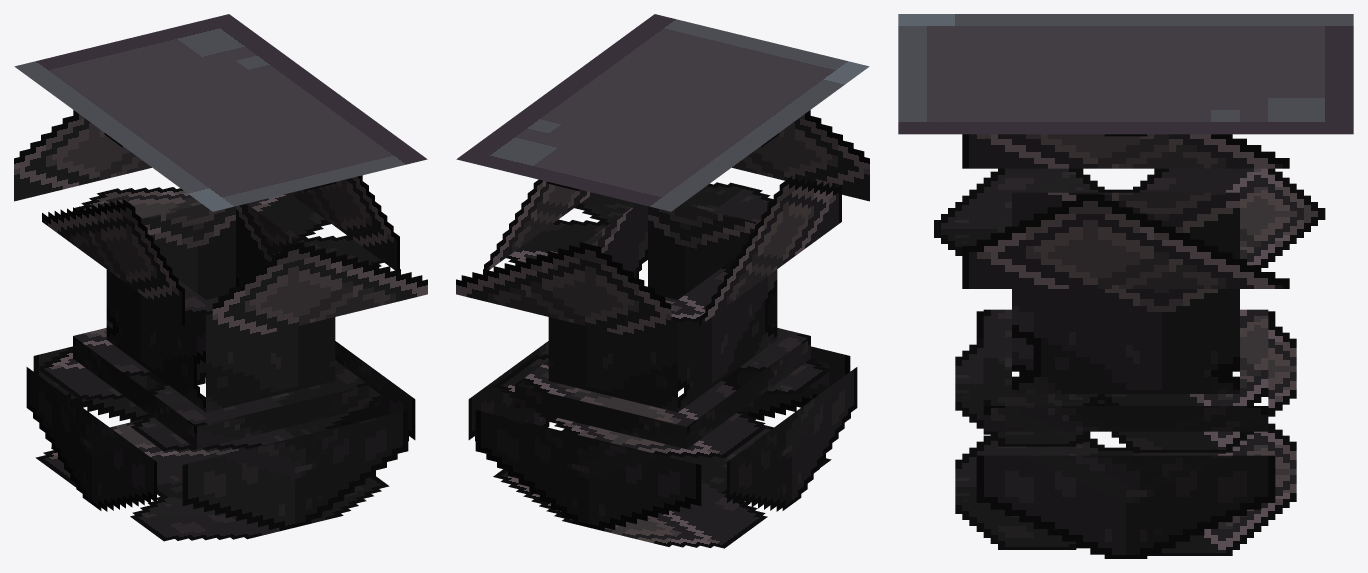
Rendered from anvil.fbx.
The picture shows the model from 3 angles, left to right: view 1: azimuth 30°, elevation 25°; view 2: azimuth 150°, elevation 25°; view 3: azimuth 270°, elevation 25°; orthographic projection. The views are drawn at different scales.
Parts seen in each view (by area): view 1: anvil; view 2: anvil; view 3: anvil.
Boxes of the visible parts, <box> form: anvil: <box>14,14,427,541</box>; anvil: <box>456,14,869,548</box>; anvil: <box>898,14,1353,558</box>.
Size of the model in its own units: 75 by 100 by 100.
